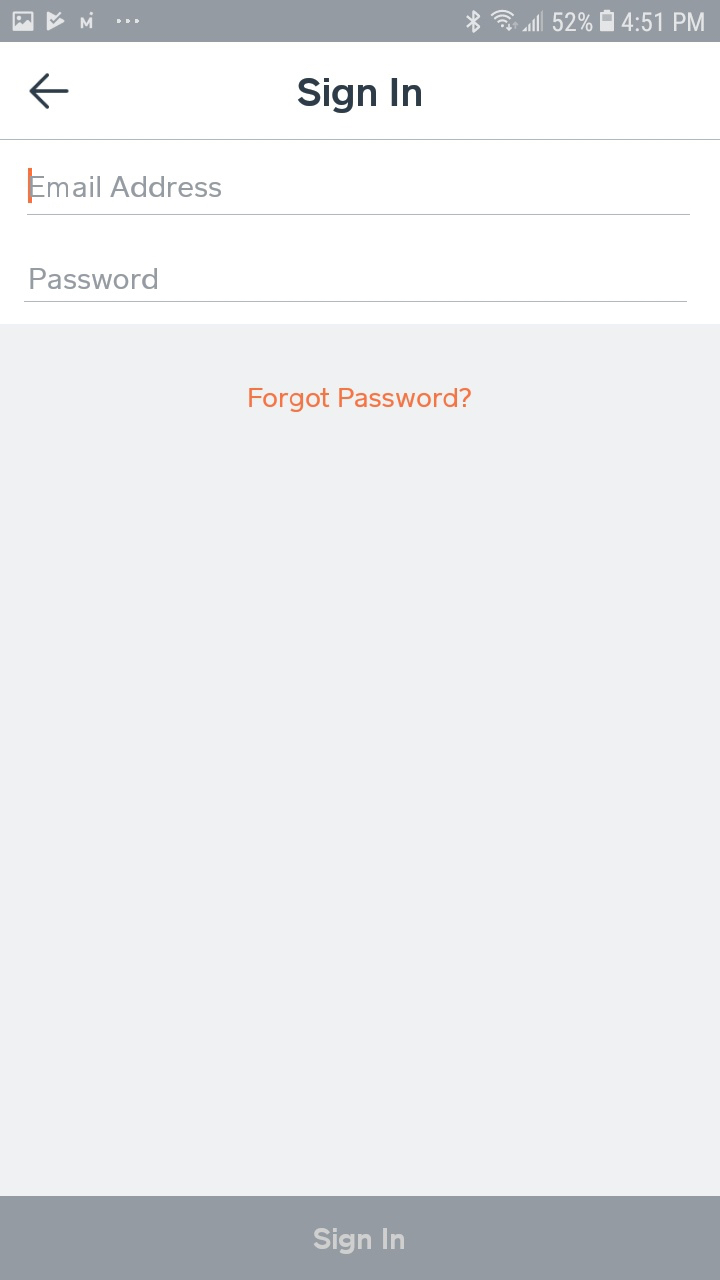EditText: (28, 169, 690, 216), (25, 269, 687, 303)
Icon: (29, 73, 70, 110)
Text: (249, 388, 472, 413), (298, 78, 422, 114), (31, 176, 222, 198), (30, 268, 158, 290)
TextButton: (1, 1196, 720, 1280)
UpperTaskBar: (1, 1, 720, 43)
